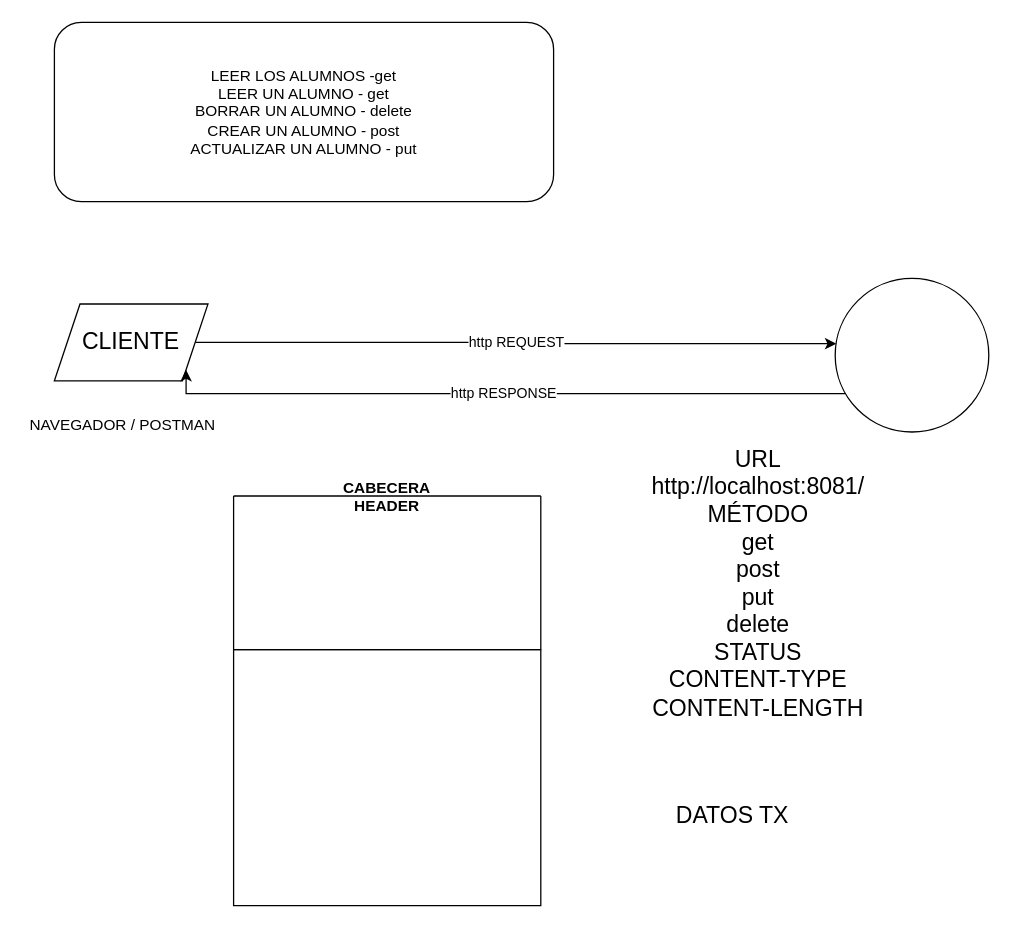
The diagram is 1011 pixels wide and 928 high, and some of its shapes have lost their labels. The shapes that lost their labels are listed below. From the top down, each one's box as (x1, y1, x2, y2) in pixels, then its label:
(834, 277, 989, 432): SERVIDOR
(232, 648, 541, 906): CUERPO BODY
